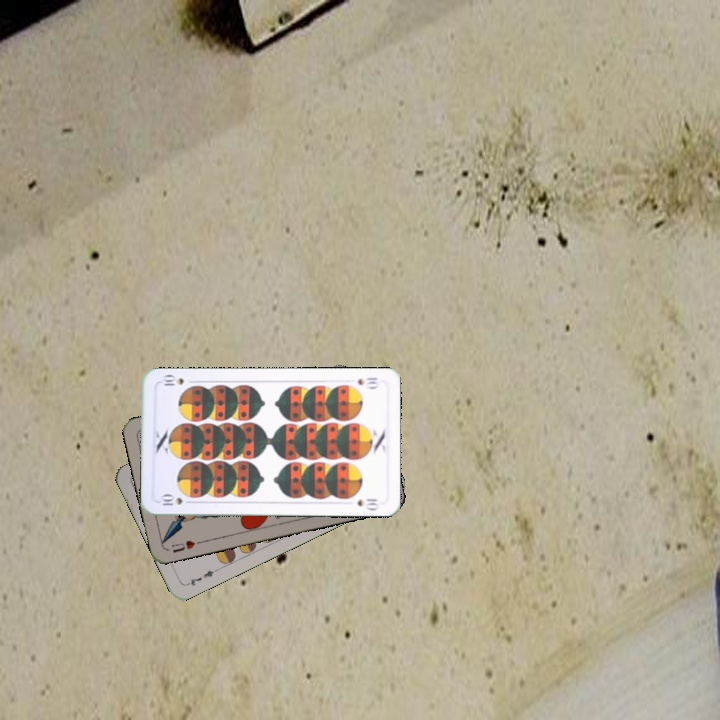E7: (182, 565, 221, 588)
HU: (167, 536, 205, 555)
S10: (156, 492, 196, 508), (353, 373, 381, 391)
